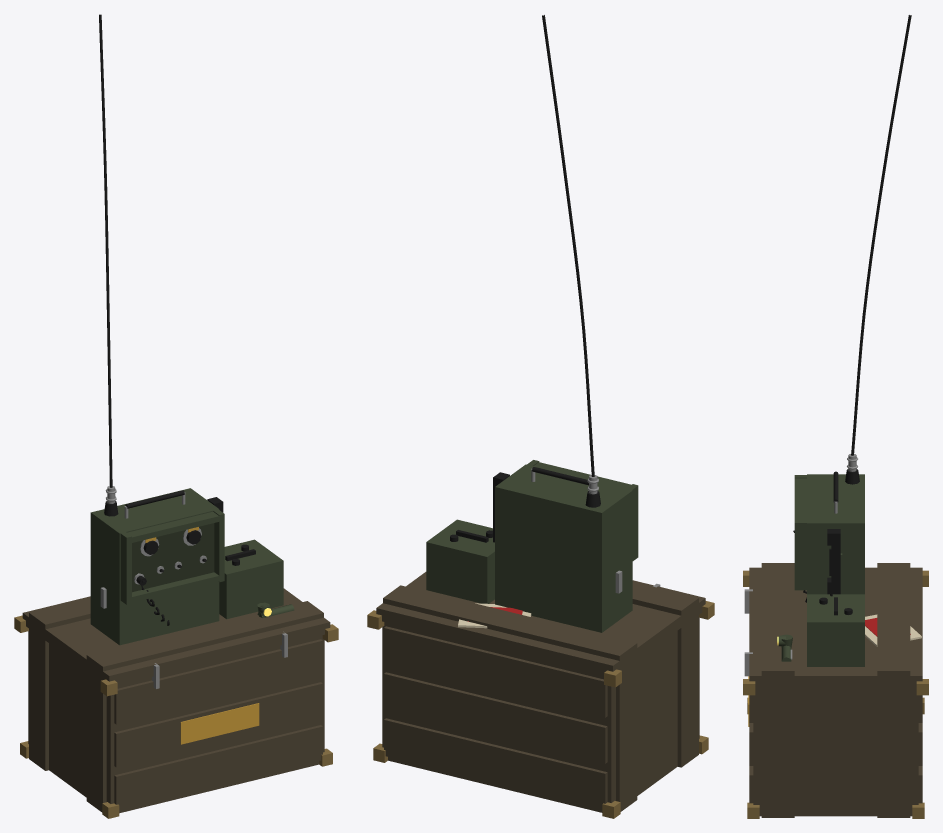
File: radio-stack.glb
3 views of the same model, side by side, from view 1: azimuth 30°, elevation 25°; view 2: azimuth 150°, elevation 25°; view 3: azimuth 270°, elevation 25° (orthographic). The views are drawn at different scales.
Parts seen in each view (by area): view 1: Mesh_CrateBody, Mesh_SlatF1, Mesh_SlatF3, Mesh_CrateLid, Mesh_SlatF2, Mesh_BatteryBox, Mesh_RadioBody, Mesh_LidBatten2, Mesh_SpareBatteryBox, Mesh_Faceplate, Mesh_BattenR2, Mesh_BattenR1 (+7 smaller); view 2: Mesh_CrateBody, Mesh_RadioBody, Mesh_SlatB2, Mesh_SlatB3, Mesh_SlatB1, Mesh_CrateLid, Mesh_BatteryBox, Mesh_LidBatten1, Mesh_SpareBatteryBox, Mesh_BattenR2, Mesh_BattenR1, Mesh_AntennaWhip (+1 smaller); view 3: Mesh_CrateBody, Mesh_CrateLid, Mesh_RadioBody, Mesh_BattenL1, Mesh_BattenL2, Mesh_SpareBatteryBox, Mesh_LidBatten1, Mesh_LidBatten2, Mesh_AntennaWhip, Mesh_GuardL, Mesh_GuardT, Mesh_HandsetHandle.
Boxes of the visible parts, x1=… form: Mesh_CrateBody: x1=28, y1=631, x2=324, y2=813; Mesh_SlatF1: x1=114, y1=725, x2=322, y2=809; Mesh_SlatF3: x1=114, y1=639, x2=322, y2=724; Mesh_CrateLid: x1=22, y1=588, x2=330, y2=684; Mesh_SlatF2: x1=114, y1=682, x2=322, y2=767; Mesh_BatteryBox: x1=90, y1=580, x2=219, y2=645; Mesh_RadioBody: x1=90, y1=488, x2=219, y2=600; Mesh_LidBatten2: x1=86, y1=601, x2=323, y2=671; Mesh_SpareBatteryBox: x1=219, y1=539, x2=283, y2=619; Mesh_Faceplate: x1=132, y1=523, x2=214, y2=592; Mesh_BattenR2: x1=86, y1=671, x2=106, y2=812; Mesh_BattenR1: x1=29, y1=629, x2=48, y2=770; Mesh_CrateBody: x1=382, y1=617, x2=699, y2=812; Mesh_RadioBody: x1=495, y1=464, x2=632, y2=584; Mesh_SlatB2: x1=384, y1=672, x2=607, y2=763; Mesh_SlatB3: x1=384, y1=626, x2=607, y2=717; Mesh_SlatB1: x1=384, y1=718, x2=607, y2=808; Mesh_CrateLid: x1=376, y1=572, x2=705, y2=675; Mesh_BatteryBox: x1=495, y1=559, x2=632, y2=632; Mesh_LidBatten1: x1=383, y1=585, x2=637, y2=660; Mesh_SpareBatteryBox: x1=426, y1=519, x2=494, y2=603; Mesh_BattenR2: x1=677, y1=615, x2=698, y2=767; Mesh_BattenR1: x1=616, y1=660, x2=637, y2=811; Mesh_AntennaWhip: x1=542, y1=15, x2=594, y2=476; Mesh_CrateBody: x1=753, y1=687, x2=918, y2=816; Mesh_CrateLid: x1=749, y1=567, x2=922, y2=686; Mesh_RadioBody: x1=807, y1=474, x2=864, y2=590; Mesh_BattenL1: x1=877, y1=687, x2=910, y2=817; Mesh_BattenL2: x1=761, y1=687, x2=794, y2=817; Mesh_SpareBatteryBox: x1=807, y1=594, x2=864, y2=666; Mesh_LidBatten1: x1=877, y1=563, x2=910, y2=675; Mesh_LidBatten2: x1=761, y1=563, x2=794, y2=675; Mesh_AntennaWhip: x1=851, y1=15, x2=911, y2=455; Mesh_GuardL: x1=794, y1=520, x2=806, y2=590; Mesh_GuardT: x1=794, y1=478, x2=806, y2=520; Mesh_HandsetHandle: x1=831, y1=545, x2=840, y2=586.
Bounding box in the file's own units: 0.65 × 1.95 × 0.45.
